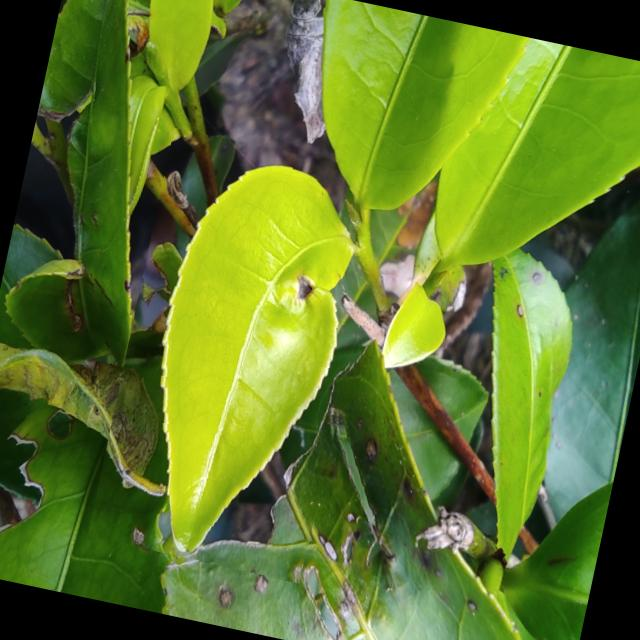Category B(2-4 days): (86, 128, 394, 586)
